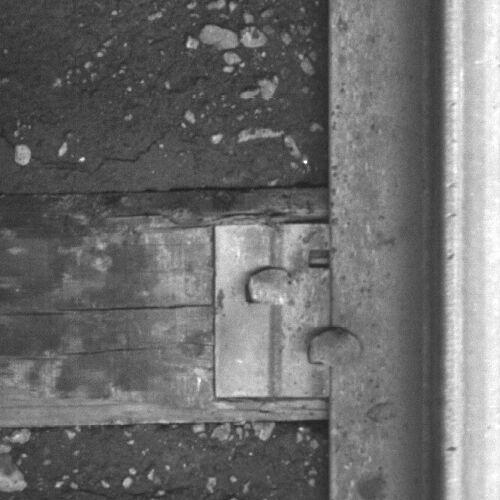do: (213, 224, 363, 399)
hole_do: (302, 239, 342, 277)
rail: (443, 1, 500, 500)
tie_wood: (1, 193, 333, 422)
wood_crack: (1, 298, 216, 320)
